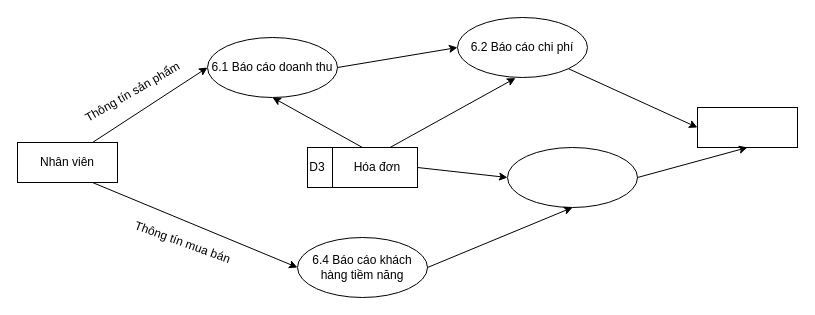
This 815x315 diagram has some shape labels left out. Each missing label, with the centre of its shape:
6.3 Báo cáo sản phẩm bán chạy: point 572,177
Quản lý: point 747,127
